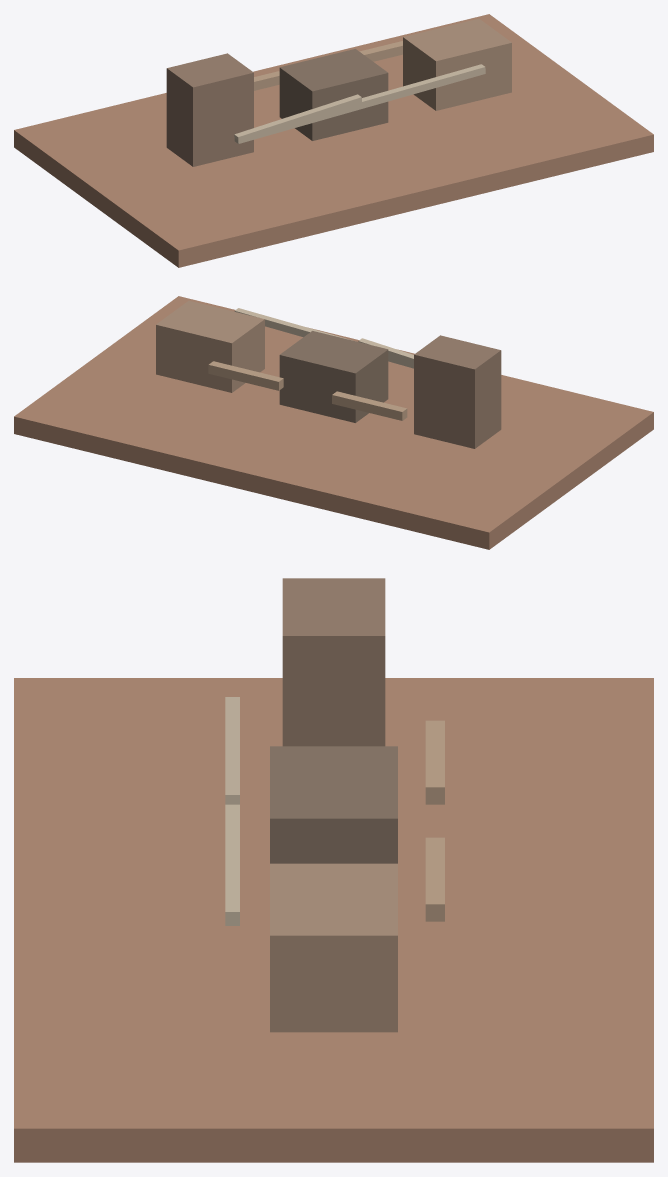
The picture shows the model from 3 angles, top to bottom: view 1: azimuth 30°, elevation 25°; view 2: azimuth 150°, elevation 25°; view 3: azimuth 270°, elevation 25°; orthographic projection. The views are drawn at different scales.
Visible parts, largest first — view 1: substrate: PPO-trained robotic pick-and-place policy, [01] algorithmic core, [03] actuation / effector boundary, [02] data interface, control -> [03], control -> [02], flow 2 -> 3; view 2: substrate: PPO-trained robotic pick-and-place policy, [01] algorithmic core, [03] actuation / effector boundary, [02] data interface, flow 2 -> 3, flow 1 -> 2, control -> [03]; view 3: substrate: PPO-trained robotic pick-and-place policy, [03] actuation / effector boundary, [01] algorithmic core, [02] data interface, control -> [03], flow 1 -> 2, flow 2 -> 3, control -> [02].
Part boxes in pixels (<box>): substrate: PPO-trained robotic pick-and-place policy: <box>14,14,653,267</box>; [01] algorithmic core: <box>166,53,253,166</box>; [03] actuation / effector boundary: <box>403,18,511,110</box>; [02] data interface: <box>279,49,388,140</box>; control -> [03]: <box>234,64,485,143</box>; control -> [02]: <box>234,94,361,143</box>; flow 2 -> 3: <box>359,41,402,61</box>; substrate: PPO-trained robotic pick-and-place policy: <box>14,296,653,549</box>; [01] algorithmic core: <box>414,335,501,448</box>; [03] actuation / effector boundary: <box>156,300,264,392</box>; [02] data interface: <box>279,331,388,422</box>; flow 2 -> 3: <box>208,361,283,390</box>; flow 1 -> 2: <box>332,391,407,420</box>; control -> [03]: <box>234,308,413,368</box>; substrate: PPO-trained robotic pick-and-place policy: <box>14,678,653,1162</box>; [03] actuation / effector boundary: <box>270,863,397,1032</box>; [01] algorithmic core: <box>282,578,385,746</box>; [02] data interface: <box>270,746,397,863</box>; control -> [03]: <box>225,804,239,925</box>; flow 1 -> 2: <box>425,720,444,804</box>; flow 2 -> 3: <box>425,837,444,921</box>; control -> [02]: <box>225,697,239,804</box>.
Size of the model in its own units: 10 by 2.2 by 6.
